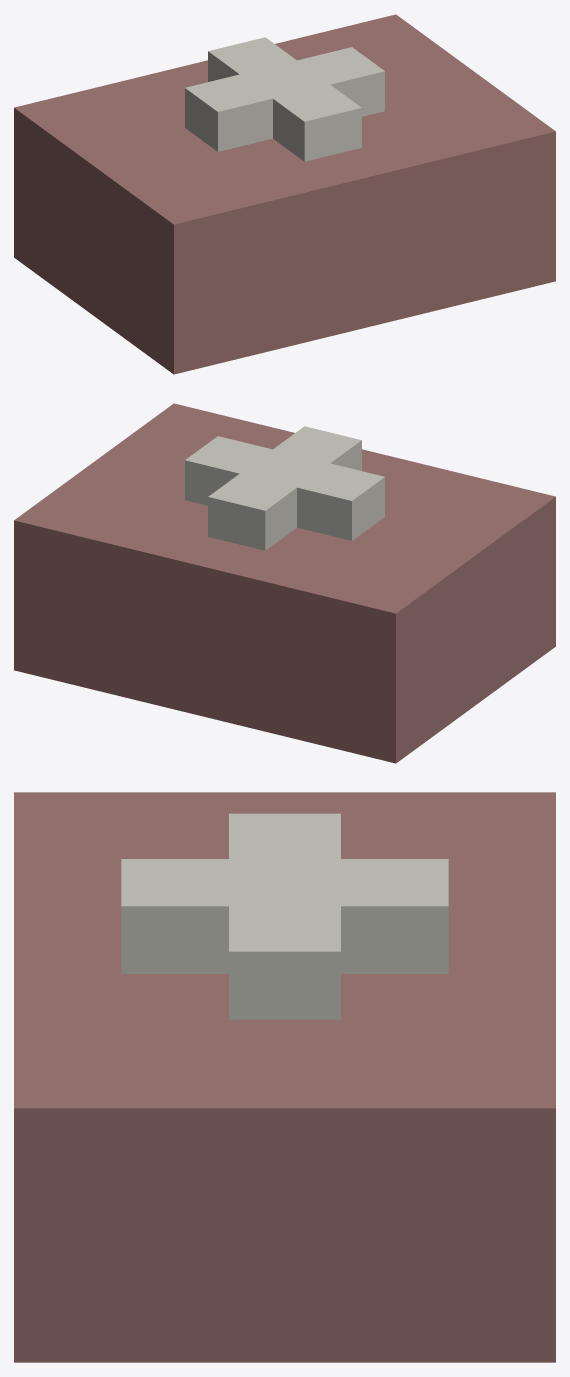
The model's file is loot_medkit.glb.
3 views of the same model, one above another, from view 1: azimuth 30°, elevation 25°; view 2: azimuth 150°, elevation 25°; view 3: azimuth 270°, elevation 25° (orthographic). The views are drawn at different scales.
Visible parts, largest first — view 1: case_0, cross_v_1, cross_h_2; view 2: case_0, cross_v_1, cross_h_2; view 3: case_0, cross_v_1, cross_h_2.
Part boxes in pixels (bbox=[...]): case_0: bbox=[14, 14, 555, 374]; cross_v_1: bbox=[208, 37, 361, 161]; cross_h_2: bbox=[185, 47, 384, 151]; case_0: bbox=[14, 403, 555, 763]; cross_v_1: bbox=[208, 426, 361, 550]; cross_h_2: bbox=[185, 436, 384, 540]; case_0: bbox=[14, 792, 555, 1362]; cross_v_1: bbox=[121, 859, 448, 973]; cross_h_2: bbox=[229, 813, 340, 1019].
Size of the model in its own units: 0.8 by 0.38 by 0.58.
